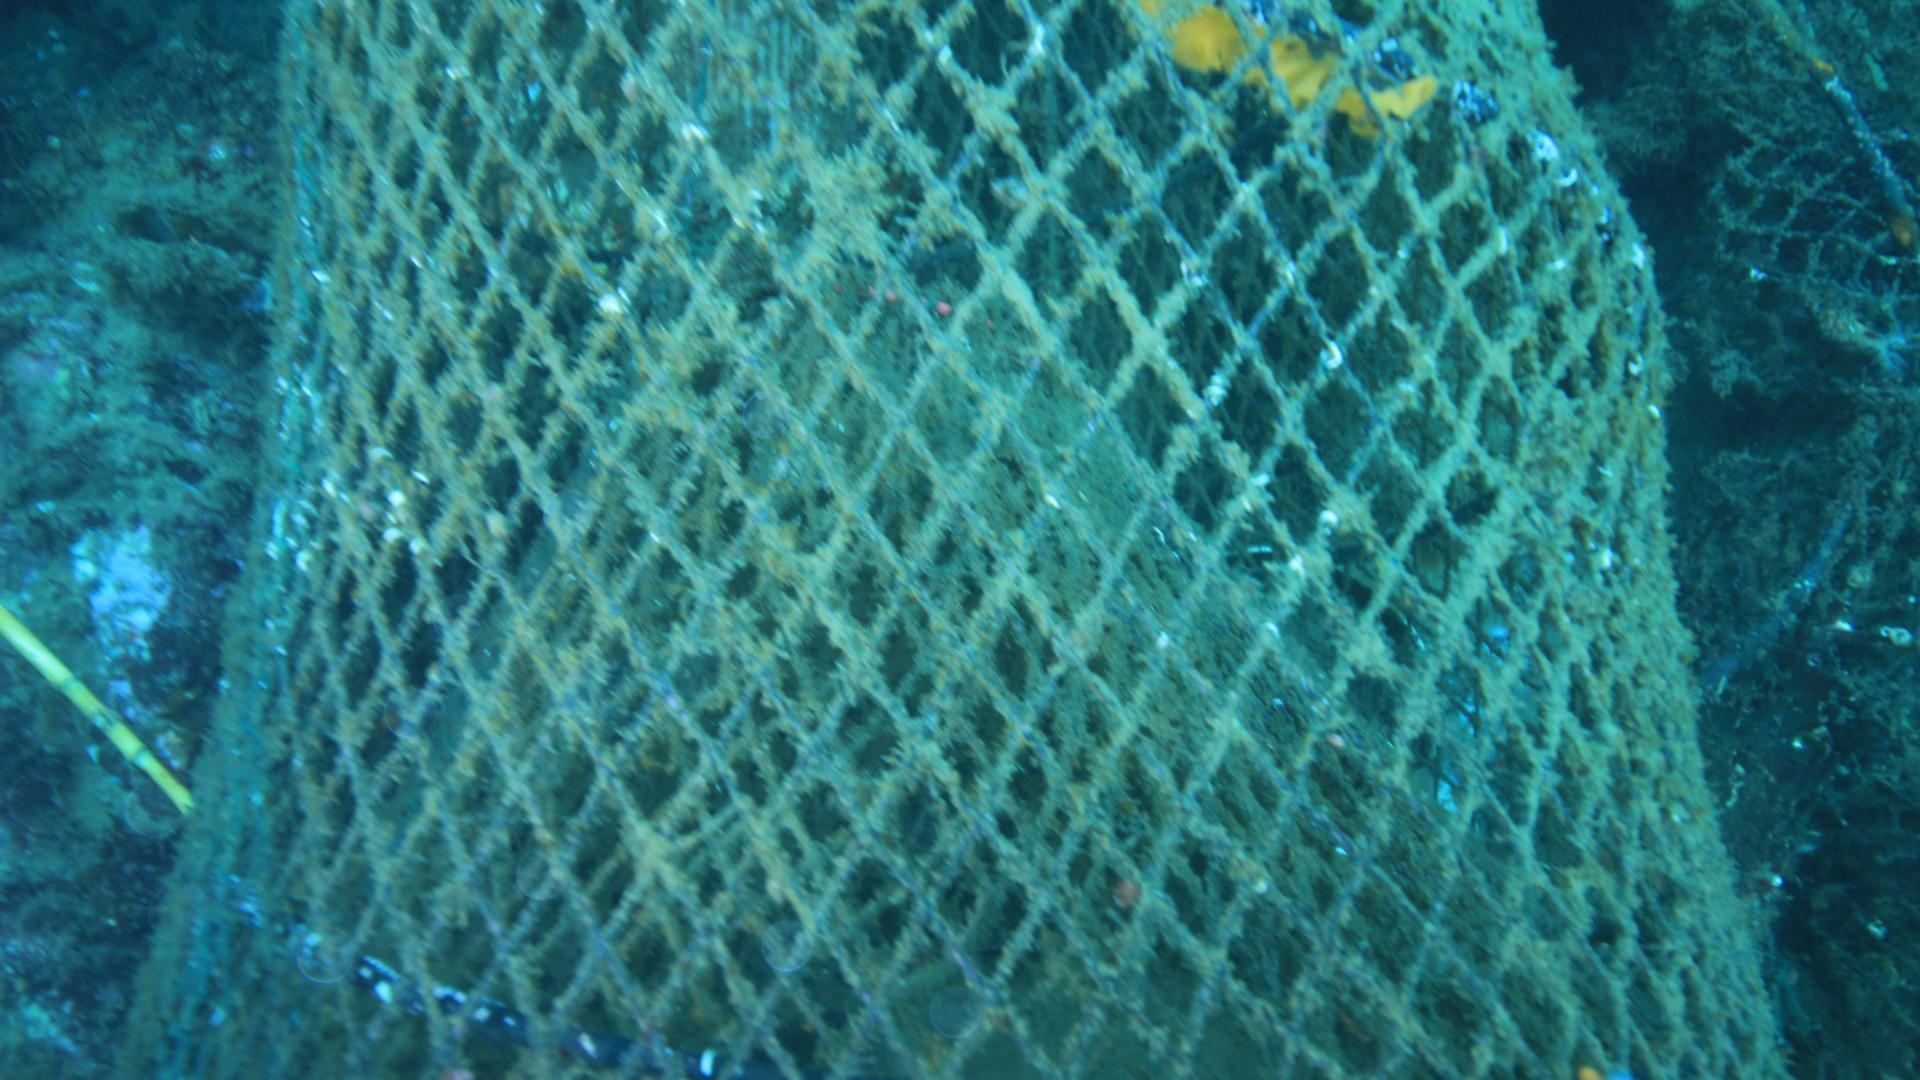fish net: (102, 0, 1793, 1080)
